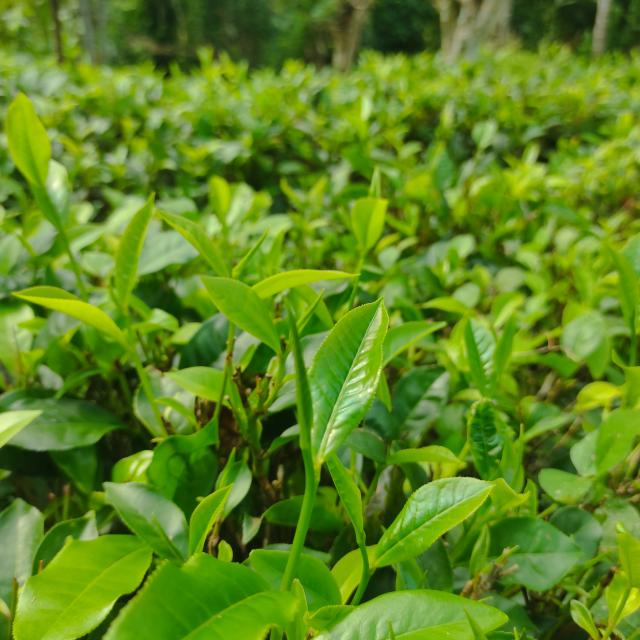unopened_leaf: (273, 293, 318, 457), (278, 280, 331, 356), (229, 219, 280, 280), (146, 504, 192, 567), (506, 418, 536, 492), (101, 265, 131, 321)
